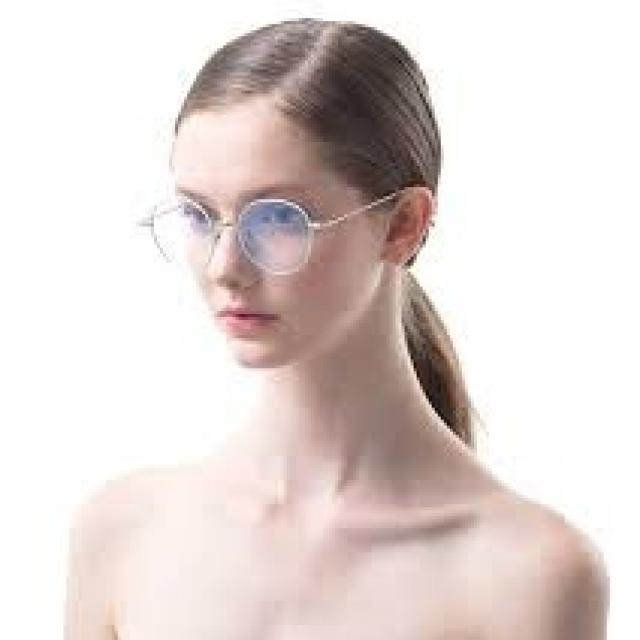Glasses: (130, 169, 422, 284)
